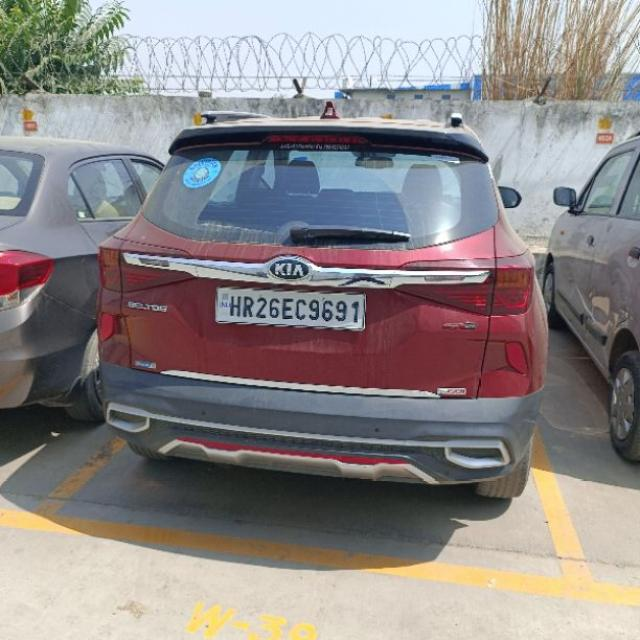license_plate: (213, 284, 366, 330)
